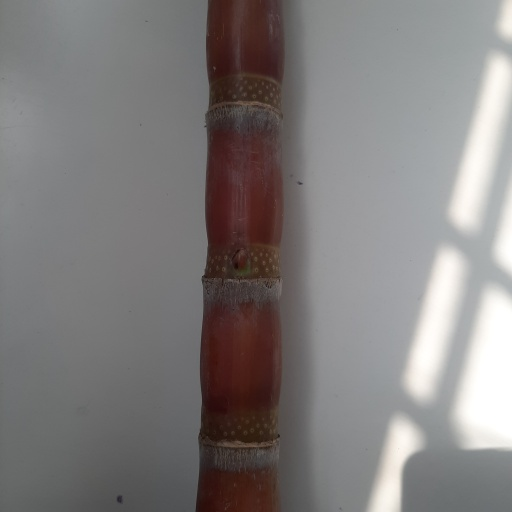Bud: (229, 247, 250, 273)
